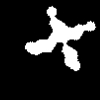single_crochet: (25, 6, 94, 70)
